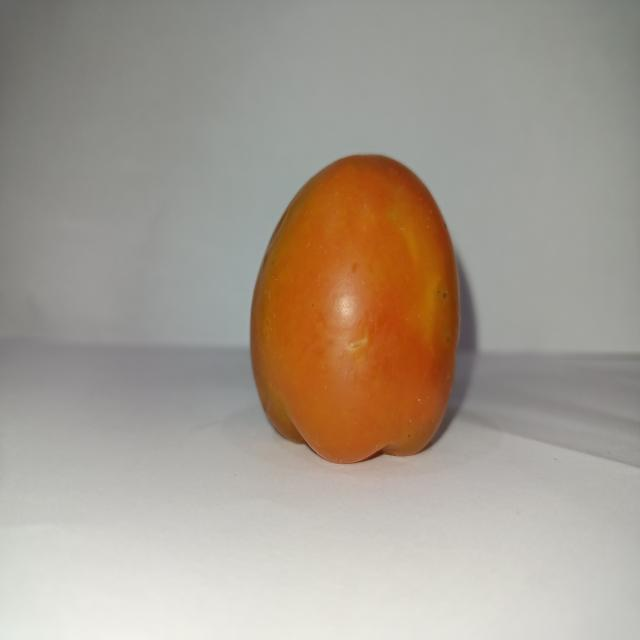Red: (248, 151, 461, 464)
